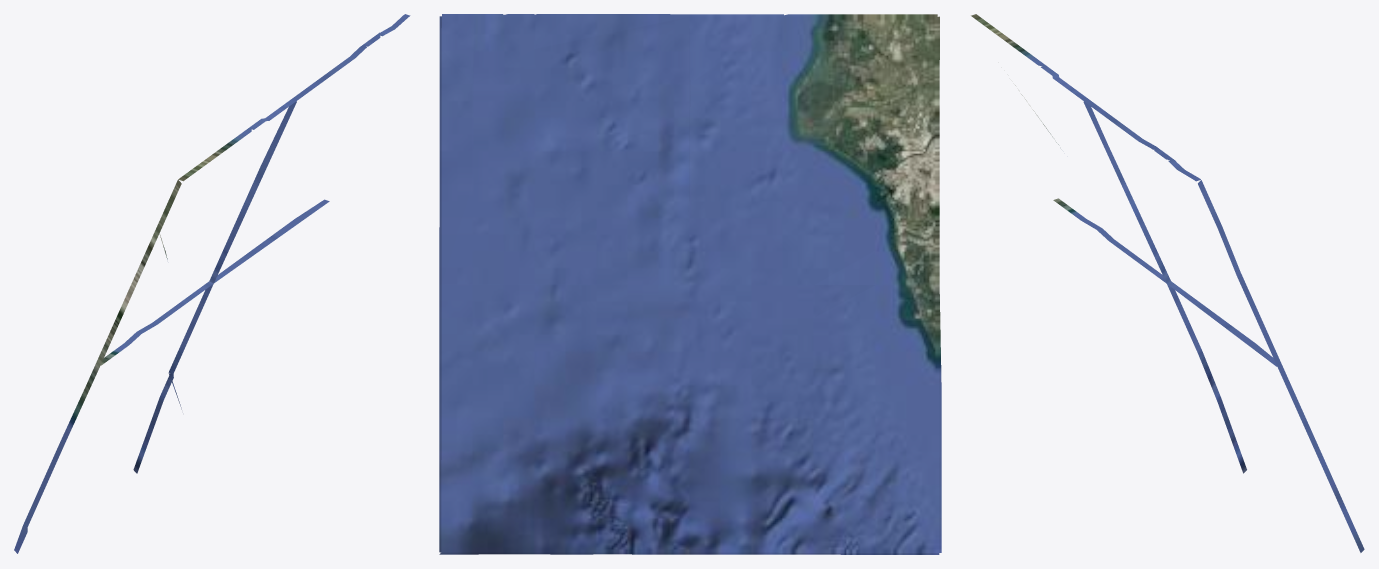
The picture shows the model from 3 angles, left to right: view 1: azimuth 30°, elevation 25°; view 2: azimuth 150°, elevation 25°; view 3: azimuth 270°, elevation 25°; orthographic projection. The views are drawn at different scales.
Bounding box in the file's own units: 78624 × 73221 × 62996.
Materials: 1 (1 with a texture image).
